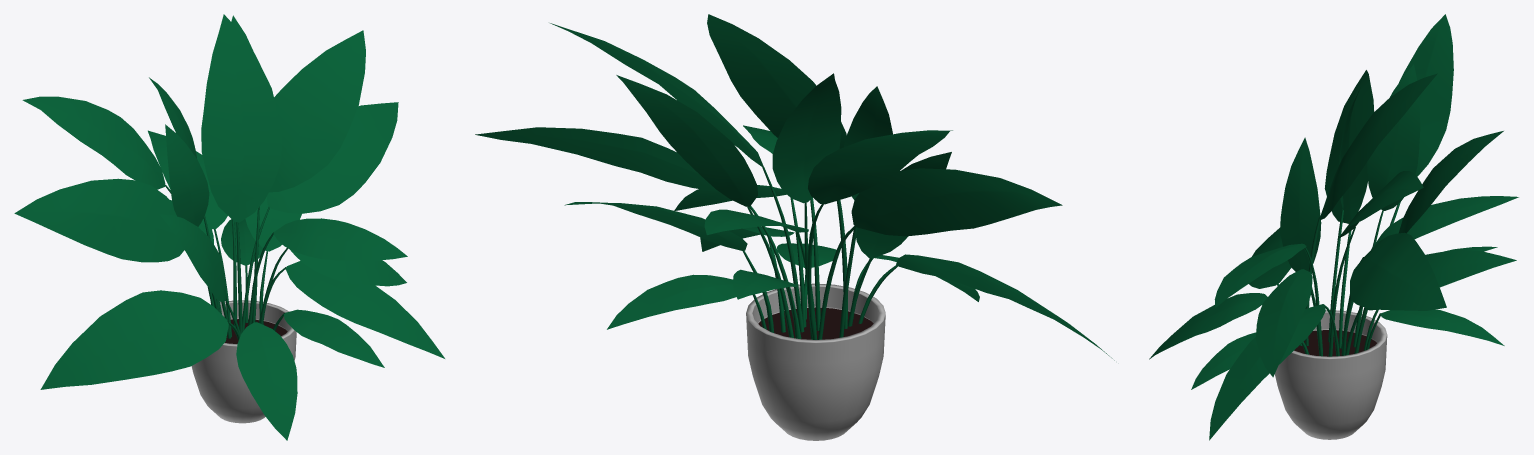
File: mdplant.glb
3 renders of one model, left to right at view 1: azimuth 30°, elevation 25°; view 2: azimuth 150°, elevation 25°; view 3: azimuth 270°, elevation 25°, orthographic. The views are drawn at different scales.
Parts seen in each view (by area): view 1: Object_10; view 2: Object_10; view 3: Object_10.
Part boxes in pixels (x1,y1,x2,y2): Object_10: [14, 14, 444, 440]; Object_10: [475, 14, 1114, 440]; Object_10: [1149, 14, 1518, 440].
Bounding box in the file's own units: 0.6992 × 0.5464 × 0.4945.
